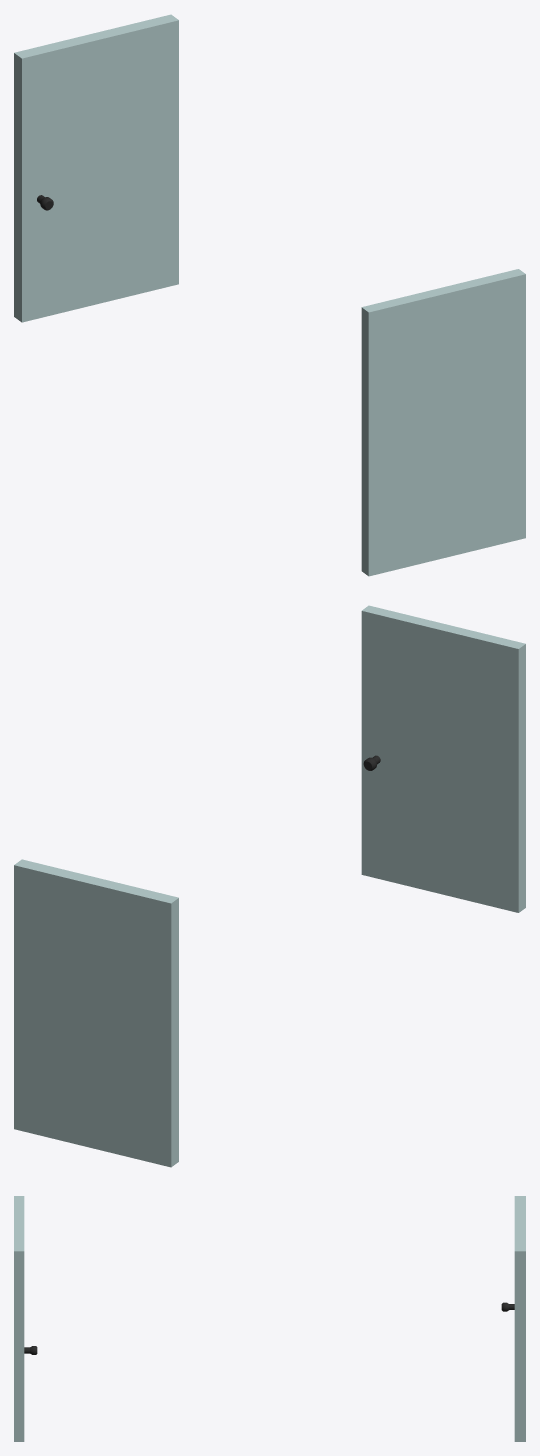
The model's file is Doors.glb.
The picture shows the model from 3 angles, top to bottom: view 1: azimuth 30°, elevation 25°; view 2: azimuth 150°, elevation 25°; view 3: azimuth 270°, elevation 25°; orthographic projection. The views are drawn at different scales.
Parts seen in each view (by area): view 1: Doors; view 2: Doors; view 3: Doors.
Boxes of the visible parts, <box> form: Doors: <box>14,14,525,576</box>; Doors: <box>14,605,525,1167</box>; Doors: <box>14,1196,525,1441</box>.
Size of the model in its own units: 6.15 by 9.87 by 24.04.
